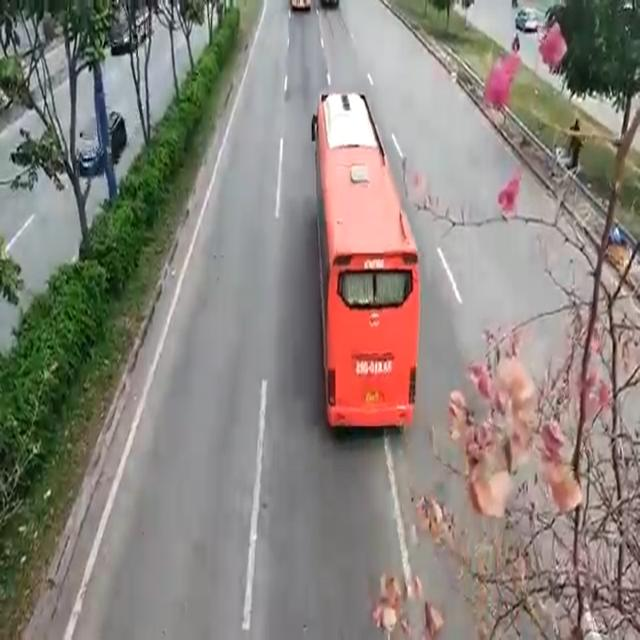bus: (314, 91, 418, 434)
